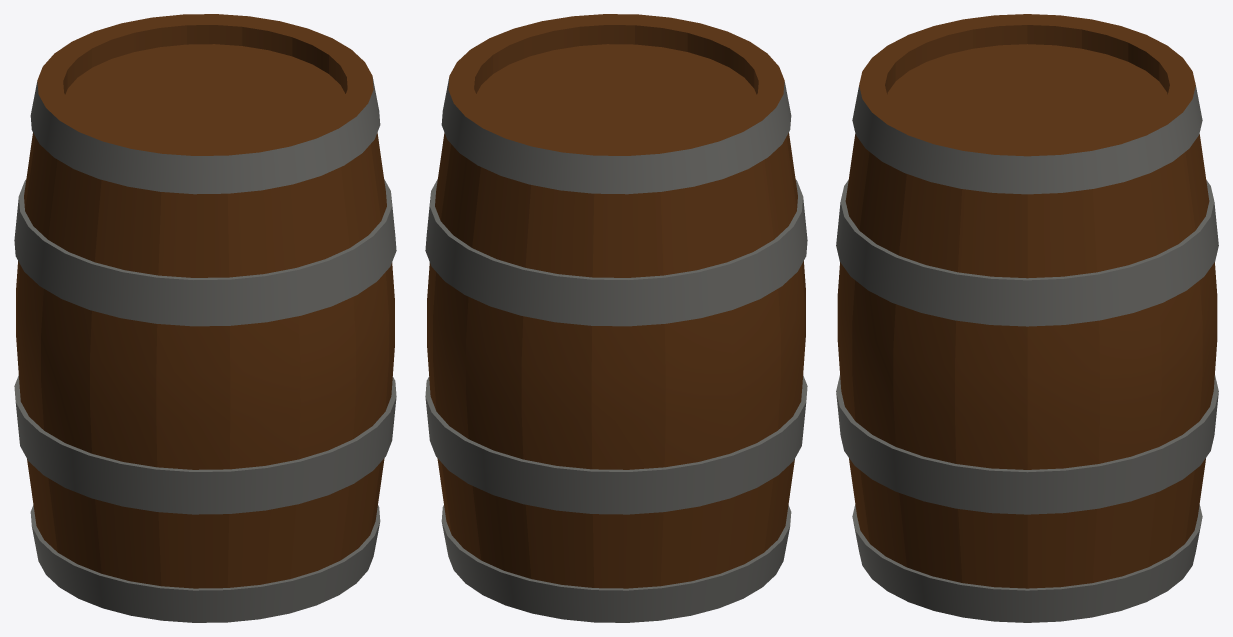
File: SM_Barrel.fbx
3 renders of one model, left to right at view 1: azimuth 30°, elevation 25°; view 2: azimuth 150°, elevation 25°; view 3: azimuth 270°, elevation 25°, orthographic.
Visible parts, largest first — view 1: SM_Barrel; view 2: SM_Barrel; view 3: SM_Barrel.
Part boxes in pixels (x1,y1,x2,y2): SM_Barrel: (14,14,396,622); SM_Barrel: (425,14,807,622); SM_Barrel: (836,14,1218,622).
Size of the model in its own units: 0.8717 by 1.17 by 0.8717.
Materials: 1 (1 with a texture image).
